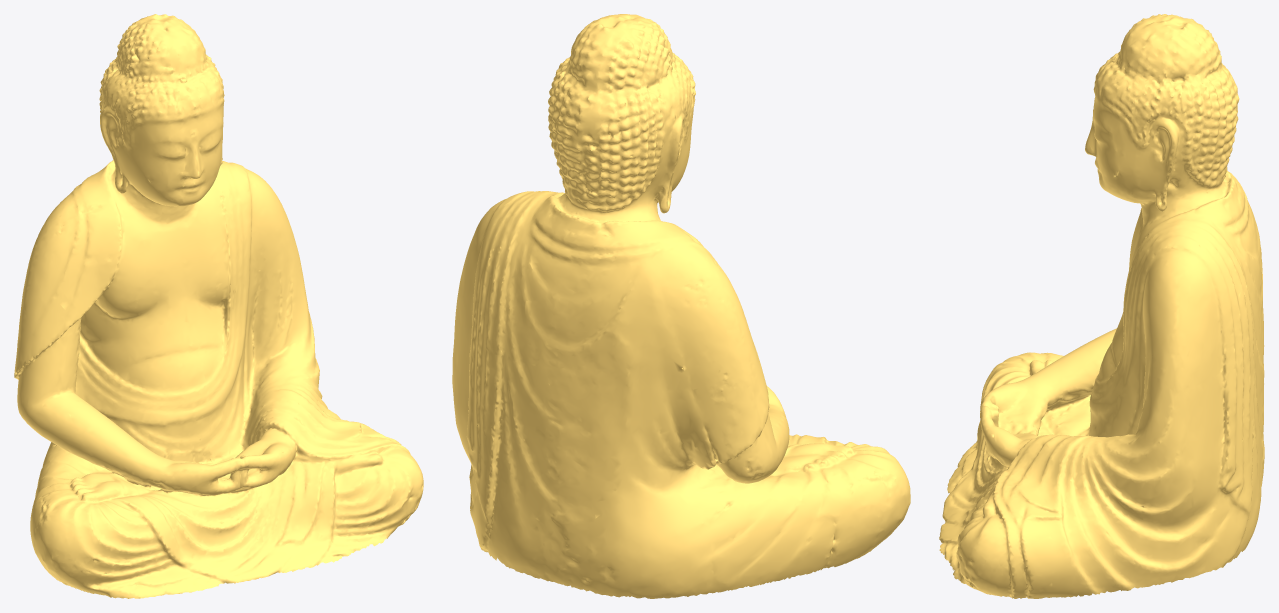
The model's file is amida_polish.glb.
3 renders of one model, left to right at view 1: azimuth 30°, elevation 25°; view 2: azimuth 150°, elevation 25°; view 3: azimuth 270°, elevation 25°, orthographic. The views are drawn at different scales.
Parts seen in each view (by area): view 1: amida_amida00_0; view 2: amida_amida00_0; view 3: amida_amida00_0.
Boxes of the visible parts, bbox=[...] form: amida_amida00_0: bbox=[14, 14, 423, 598]; amida_amida00_0: bbox=[452, 14, 910, 598]; amida_amida00_0: bbox=[939, 14, 1264, 598].
Size of the model in its own units: 0.8319 by 1.05 by 0.62.
